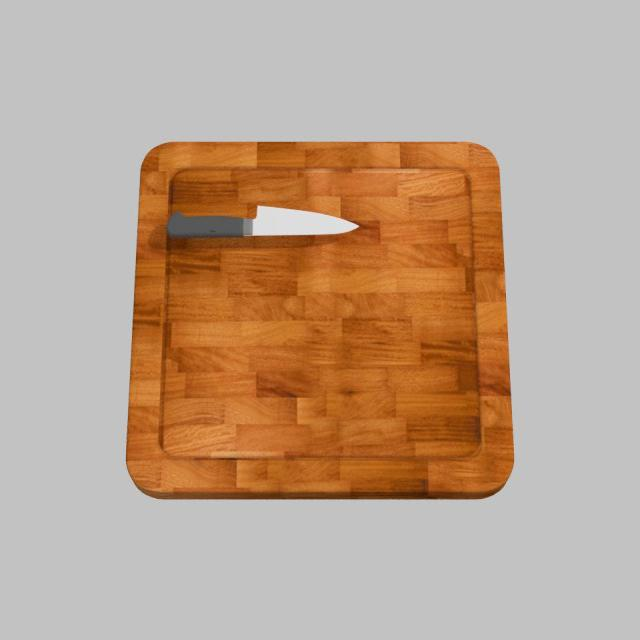knife: (166, 212, 244, 238)
